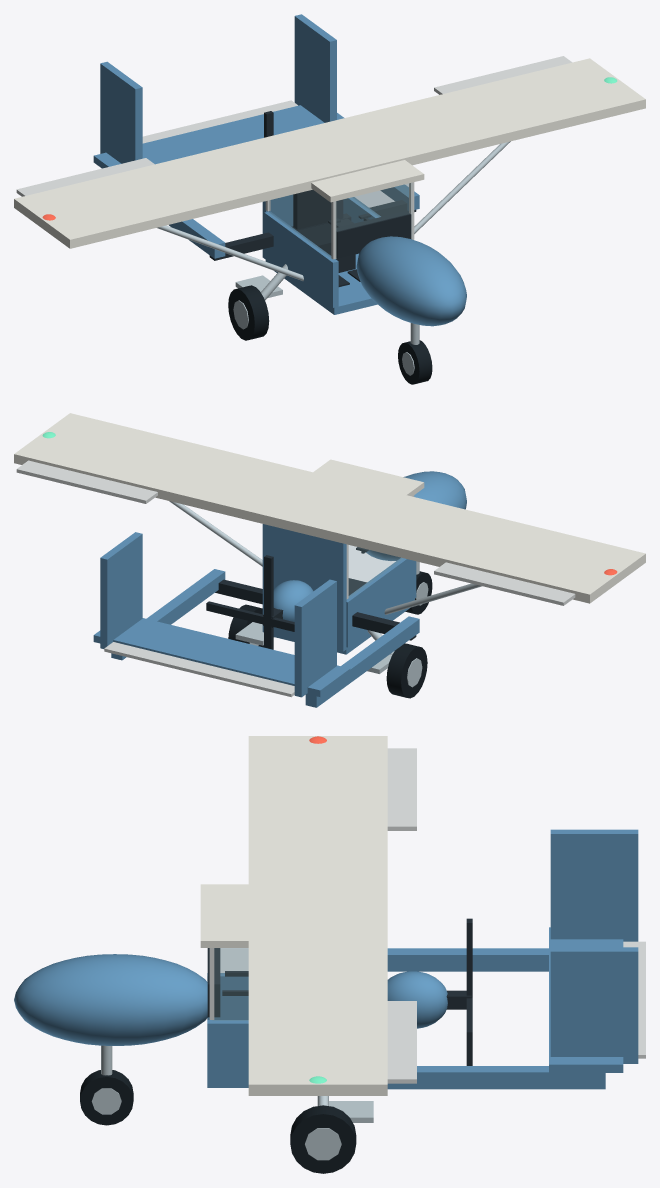
File: pusher-plane.glb
3 views of the same model, one above another, from view 1: azimuth 30°, elevation 25°; view 2: azimuth 150°, elevation 25°; view 3: azimuth 270°, elevation 25° (orthographic). The views are drawn at different scales.
Parts seen in each view (by area): view 1: aircraft-wing, pusher-plane, aircraft-fin (×2), aircraft-nose, aircraft-stabilizer, aircraft-side (×2), aircraft-window (×2), aircraft-roof, aircraft-windshield, aircraft-panel, seat-back, aircraft-floor (+5 smaller); view 2: aircraft-wing, pusher-plane, aircraft-fin (×2), aircraft-stabilizer, aircraft-bulkhead, aircraft-tail-boom (×2), aircraft-side, aircraft-elevator-hinge, aircraft-blade (×2), aircraft-roof, aircraft-nose, aircraft-window (+2 smaller); view 3: aircraft-wing, aircraft-fin (×2), aircraft-nose, pusher-plane, aircraft-tail-boom (×2), aircraft-side (×2), aircraft-window (×2), aircraft-roof, aircraft-engine, aircraft-stabilizer, aircraft-elevator-hinge, aircraft-blade (+1 smaller).
Part boxes in pixels (x1=…): aircraft-wing: x1=14, y1=58, x2=645, y2=248; pusher-plane: x1=16, y1=56, x2=617, y2=384; aircraft-fin (×2): x1=100, y1=14, x2=336, y2=163; aircraft-nose: x1=356, y1=236, x2=466, y2=326; aircraft-stabilizer: x1=93, y1=105, x2=344, y2=168; aircraft-side (×2): x1=264, y1=197, x2=380, y2=307; aircraft-window (×2): x1=269, y1=184, x2=408, y2=257; aircraft-roof: x1=311, y1=160, x2=424, y2=202; aircraft-windshield: x1=335, y1=183, x2=411, y2=258; aircraft-panel: x1=336, y1=211, x2=411, y2=258; seat-back: x1=293, y1=189, x2=343, y2=229; aircraft-floor: x1=265, y1=253, x2=377, y2=314; aircraft-wing: x1=14, y1=413, x2=645, y2=603; pusher-plane: x1=16, y1=432, x2=617, y2=698; aircraft-fin (×2): x1=100, y1=532, x2=336, y2=697; aircraft-stabilizer: x1=93, y1=618, x2=350, y2=697; aircraft-bulkhead: x1=262, y1=524, x2=346, y2=651; aircraft-tail-boom (×2): x1=111, y1=569, x2=419, y2=707; aircraft-side: x1=346, y1=557, x2=416, y2=647; aircraft-elevator-hinge: x1=104, y1=642, x2=294, y2=697; aircraft-blade (×2): x1=206, y1=555, x2=294, y2=649; aircraft-roof: x1=313, y1=459, x2=424, y2=496; aircraft-nose: x1=366, y1=471, x2=466, y2=560; aircraft-window: x1=349, y1=545, x2=402, y2=597; aircraft-wing: x1=248, y1=736, x2=387, y2=1095; aircraft-fin (×2): x1=550, y1=829, x2=638, y2=1063; aircraft-nose: x1=14, y1=954, x2=207, y2=1045; pusher-plane: x1=80, y1=736, x2=416, y2=1173; aircraft-tail-boom (×2): x1=387, y1=948, x2=605, y2=1089; aircraft-side (×2): x1=207, y1=973, x2=248, y2=1079; aircraft-window (×2): x1=212, y1=948, x2=248, y2=1020; aircraft-roof: x1=200, y1=884, x2=248, y2=947; aircraft-engine: x1=387, y1=971, x2=447, y2=1028; aircraft-stabilizer: x1=549, y1=927, x2=623, y2=1072; aircraft-elevator-hinge: x1=623, y1=941, x2=645, y2=1058; aircraft-blade: x1=466, y1=918, x2=472, y2=1065.
Size of the model in its own units: 8 by 2.47 by 6.13.
